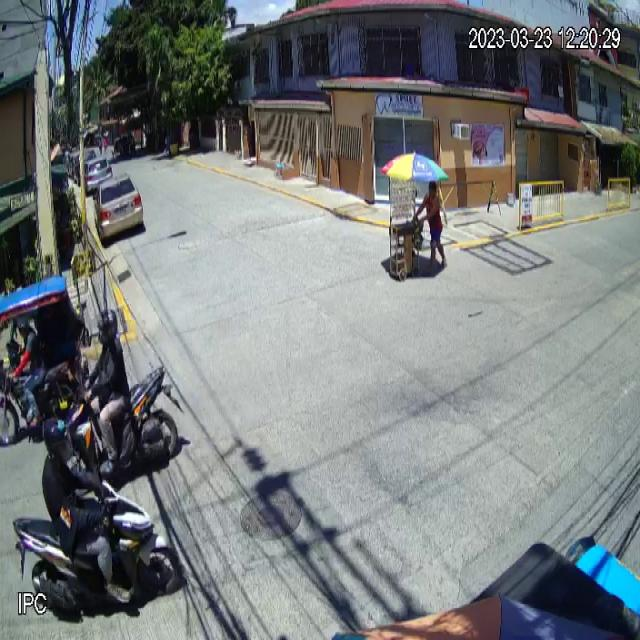Motorcycle: (11, 480, 180, 615), (64, 364, 180, 479)
